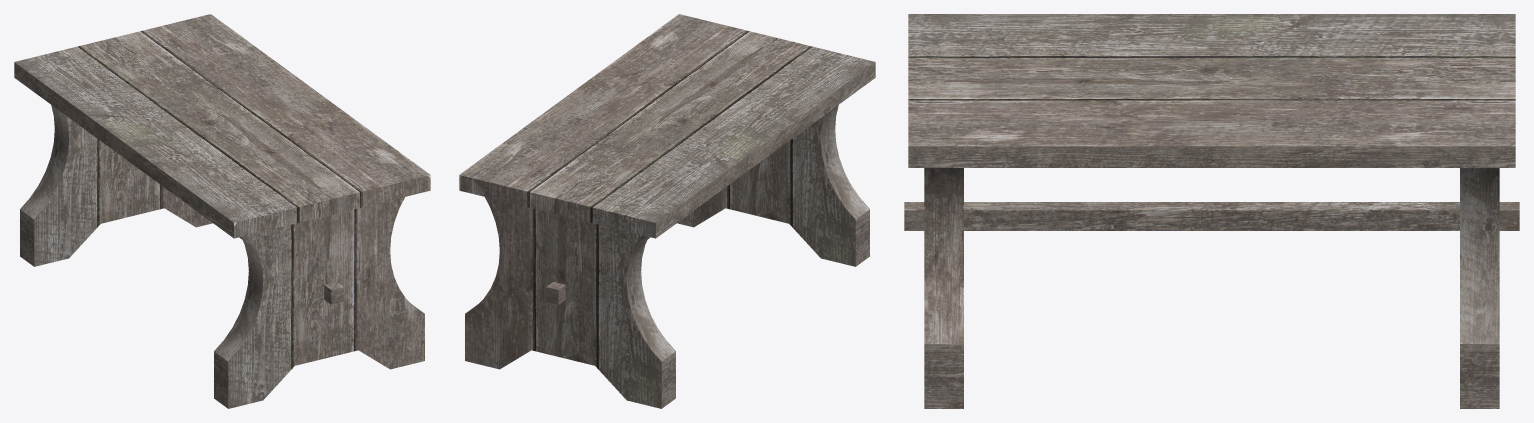
Rendered from Table_2.fbx.
3 renders of one model, left to right at view 1: azimuth 30°, elevation 25°; view 2: azimuth 150°, elevation 25°; view 3: azimuth 270°, elevation 25°, orthographic. The views are drawn at different scales.
Parts seen in each view (by area): view 1: Model; view 2: Model; view 3: Model.
Part boxes in pixels (x1,y1,x2,y2): Model: [14, 14, 430, 408]; Model: [459, 14, 875, 408]; Model: [904, 14, 1519, 408].
Size of the model in its own units: 0.79 by 0.73 by 1.55.
